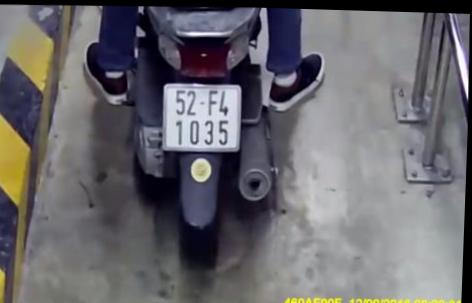LP: (161, 79, 243, 152)
